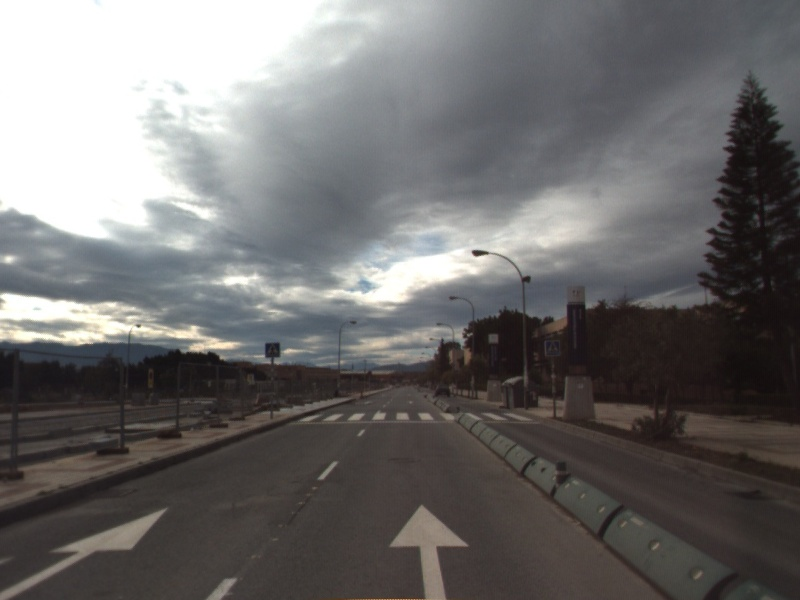STRAIGHT: (1, 502, 173, 600), (386, 500, 473, 600)
